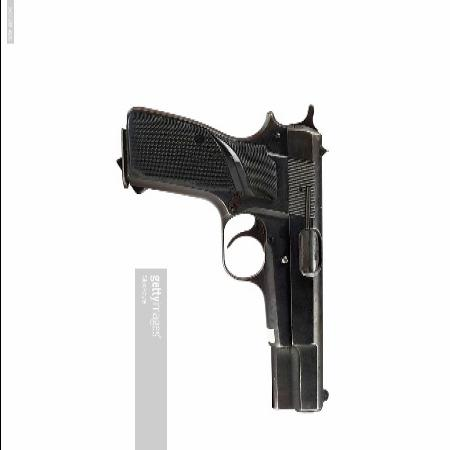Pistol: (116, 103, 333, 414)
